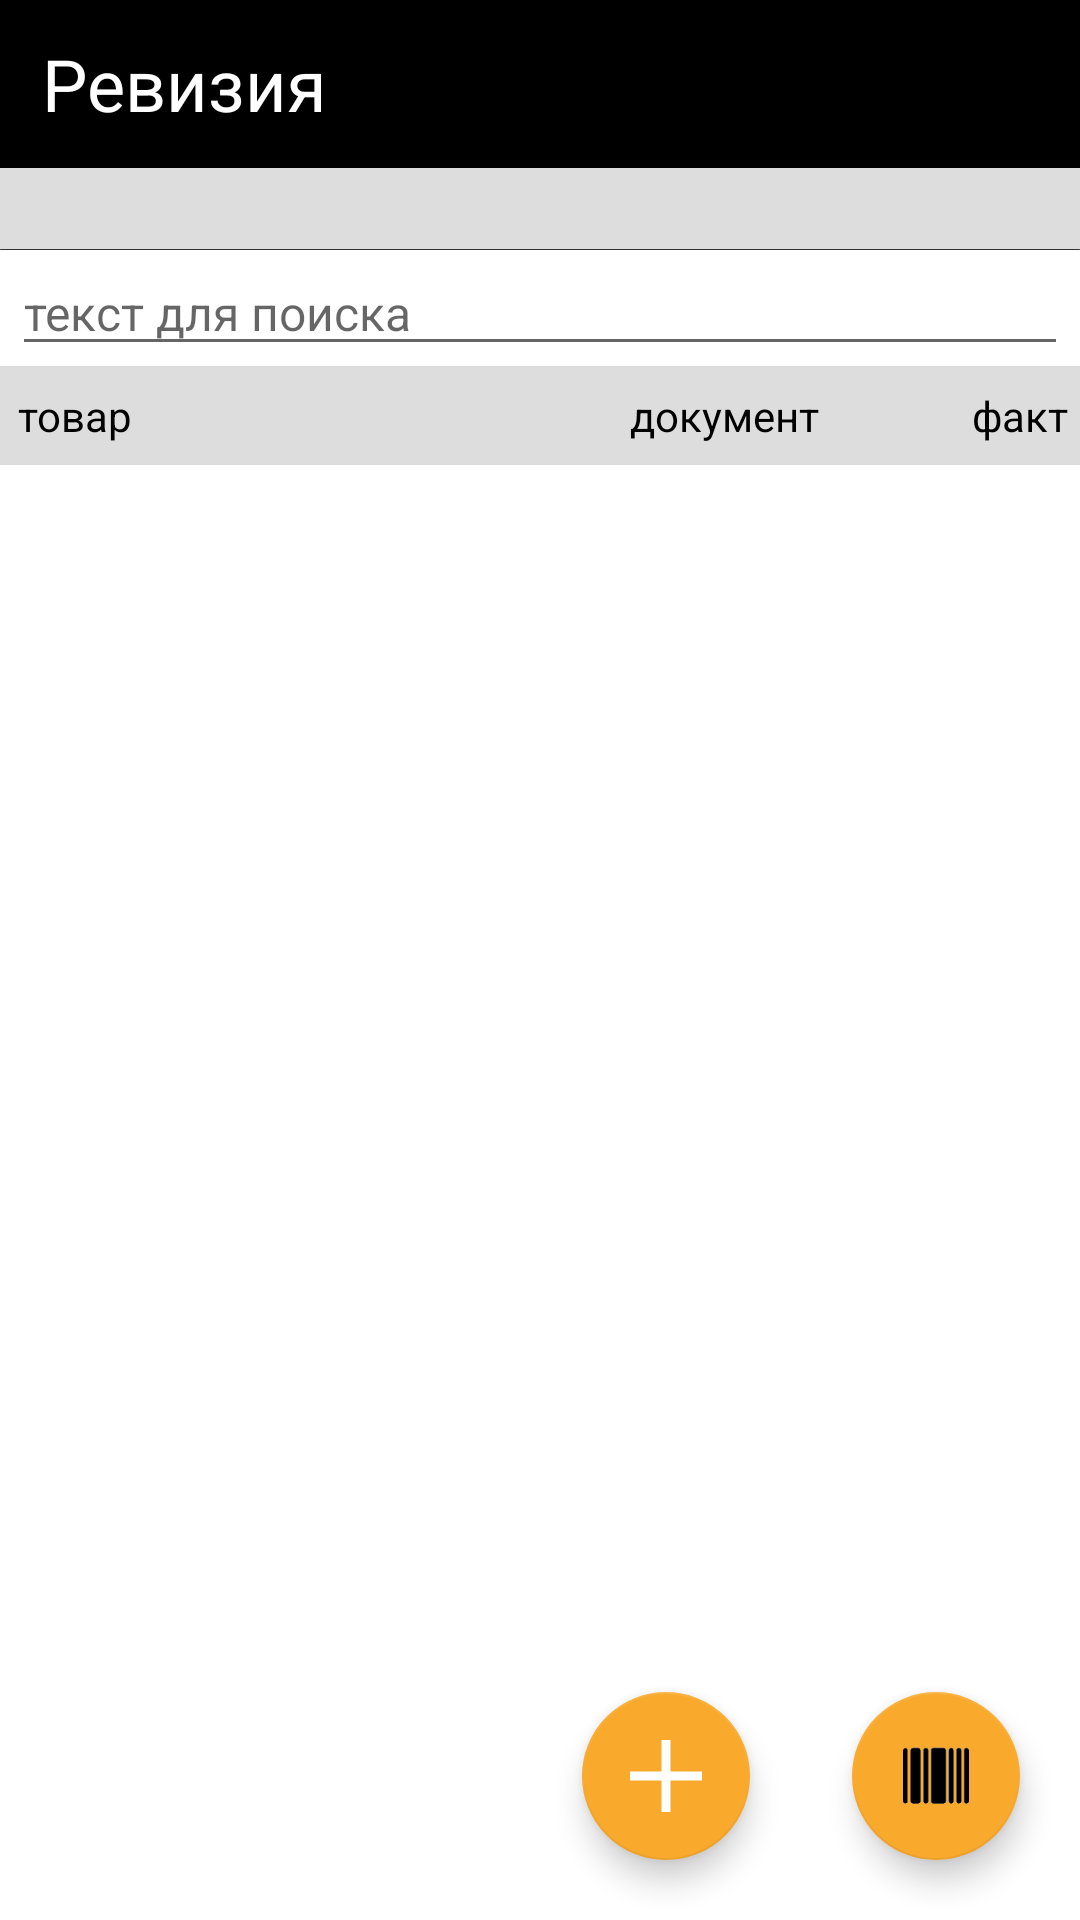

Locate icon controls on the screen. Image size 1080w x 1920h, boxes as BBox(x1, y1, x2, y2).
fab add: BBox(582, 1692, 750, 1860)
fab scanner: BBox(852, 1692, 1020, 1860)
